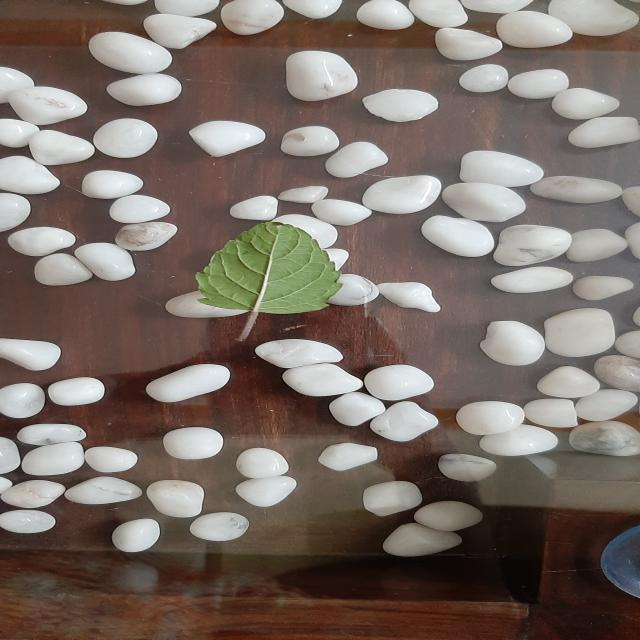tulsi: (195, 222, 341, 340)
